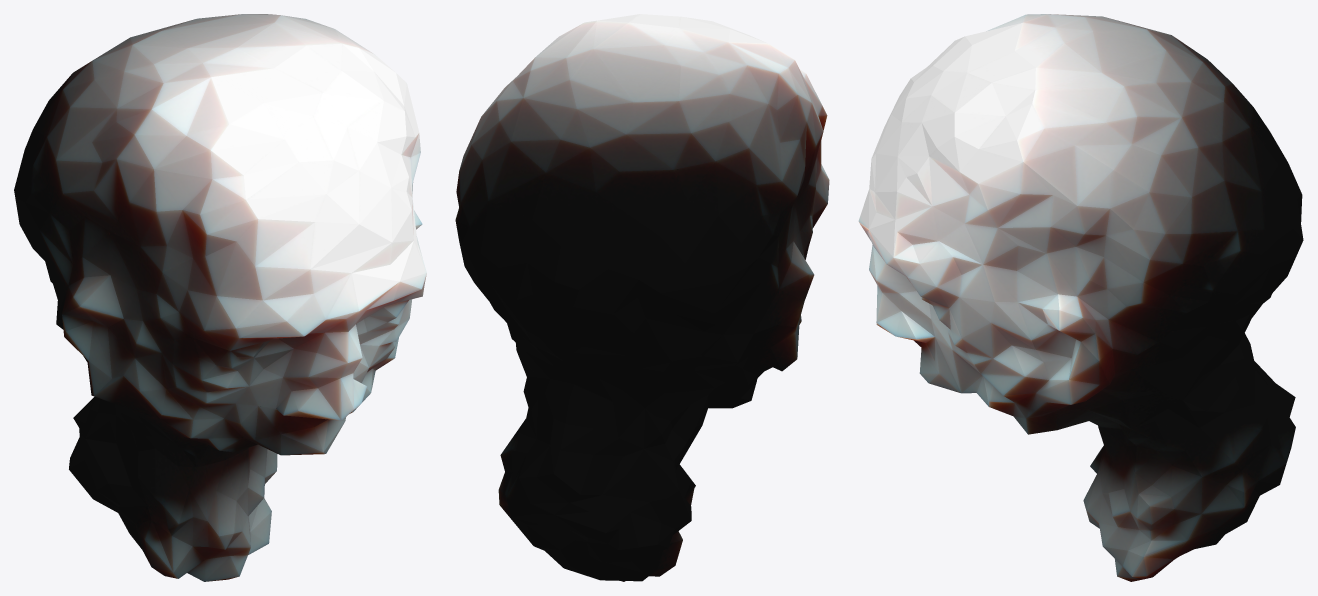
Rendered from bake.glb.
3 views of the same model, side by side, from view 1: azimuth 30°, elevation 25°; view 2: azimuth 150°, elevation 25°; view 3: azimuth 270°, elevation 25° (orthographic). The views are drawn at different scales.
Visible parts, largest first — view 1: fbxNode_fbxMesh; view 2: fbxNode_fbxMesh; view 3: fbxNode_fbxMesh.
Part boxes in pixels (<box>): fbxNode_fbxMesh: <box>14,14,426,581</box>; fbxNode_fbxMesh: <box>455,14,829,581</box>; fbxNode_fbxMesh: <box>858,14,1303,581</box>.
Bounding box in the file's own units: 2.11 × 3.28 × 2.51.
Materials: 1 (1 with a texture image).
